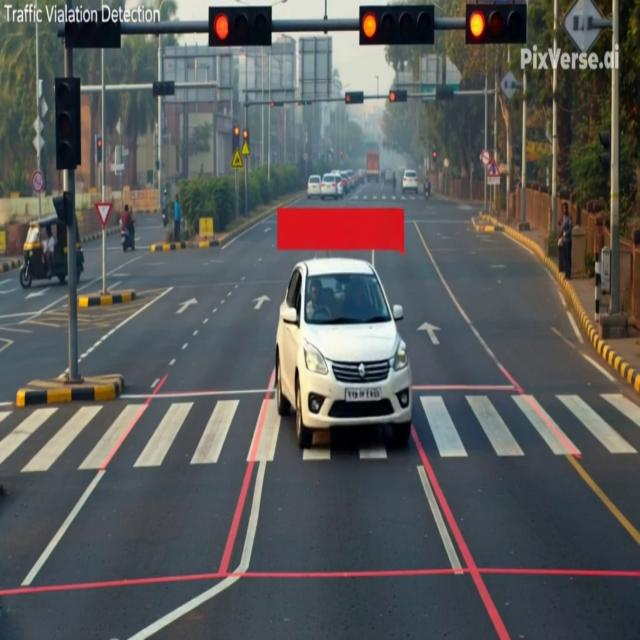car: (275, 257, 411, 448), (321, 174, 339, 199), (332, 171, 347, 198), (402, 170, 418, 194), (307, 176, 321, 199), (340, 172, 353, 192), (345, 170, 356, 189), (357, 169, 365, 183)
scooty: (121, 226, 134, 251), (162, 208, 167, 226)
traffic signal: (360, 5, 434, 45), (209, 7, 271, 47), (466, 3, 526, 44), (55, 78, 80, 170), (65, 13, 121, 48), (53, 192, 73, 226), (599, 131, 610, 170), (152, 81, 174, 97), (436, 86, 454, 100), (389, 90, 407, 102), (345, 92, 363, 104), (233, 125, 240, 149), (96, 136, 102, 163), (432, 149, 438, 163), (243, 128, 248, 143), (270, 102, 283, 107), (298, 101, 312, 105), (340, 150, 344, 158), (270, 102, 274, 107)
truck: (366, 151, 379, 183)
